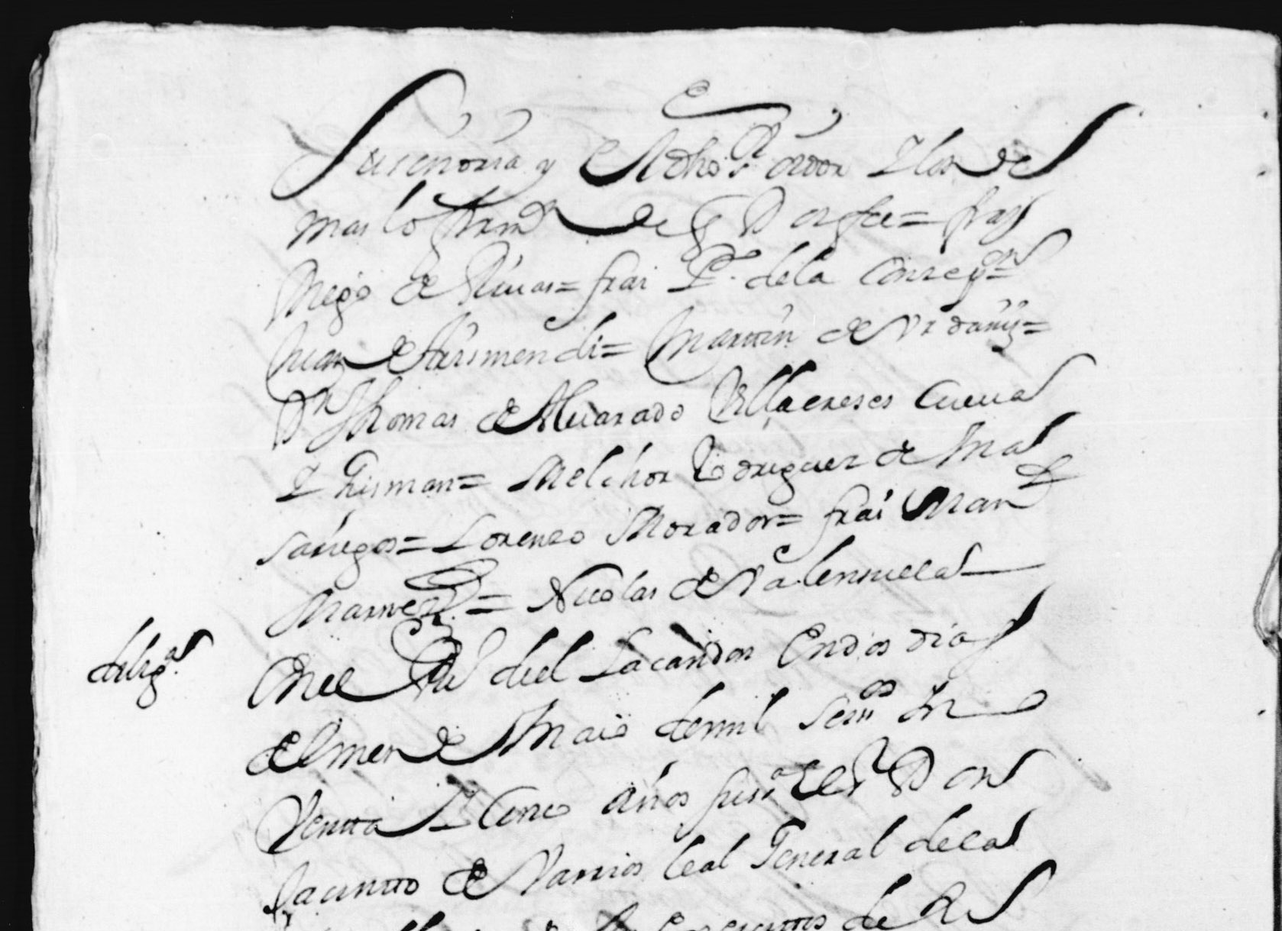lacandon: (578, 626, 753, 682)
